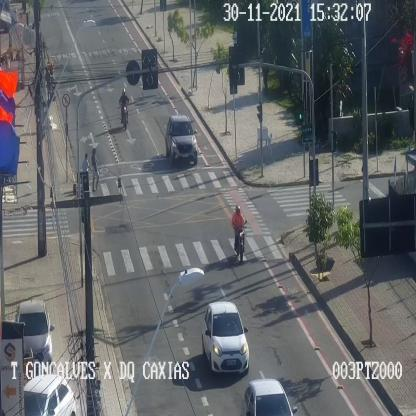car: (202, 302, 250, 373), (17, 302, 54, 367), (24, 374, 76, 415), (242, 378, 298, 416), (165, 115, 198, 166)
motorbike: (231, 206, 247, 262), (119, 89, 130, 128)
person: (92, 146, 100, 192), (232, 27, 238, 45)
